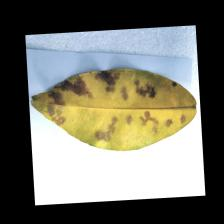canker: (42, 68, 169, 138)
